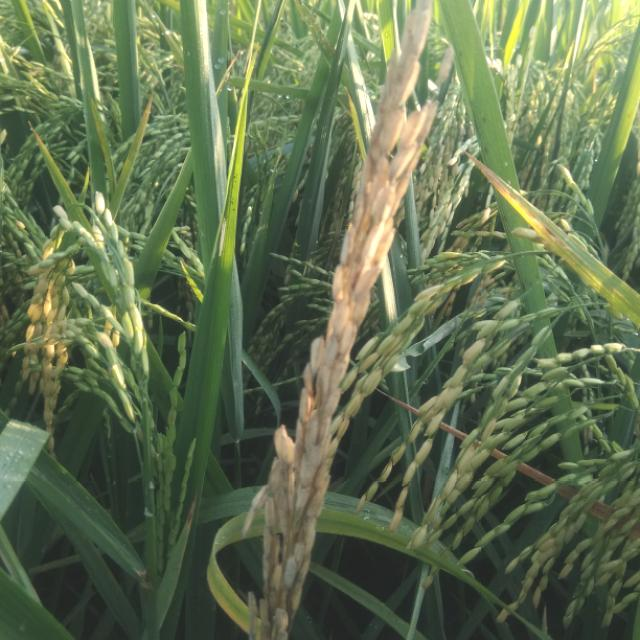Bacterial leaf blight: (208, 210, 234, 265)
Brown spot: (130, 88, 158, 162)
